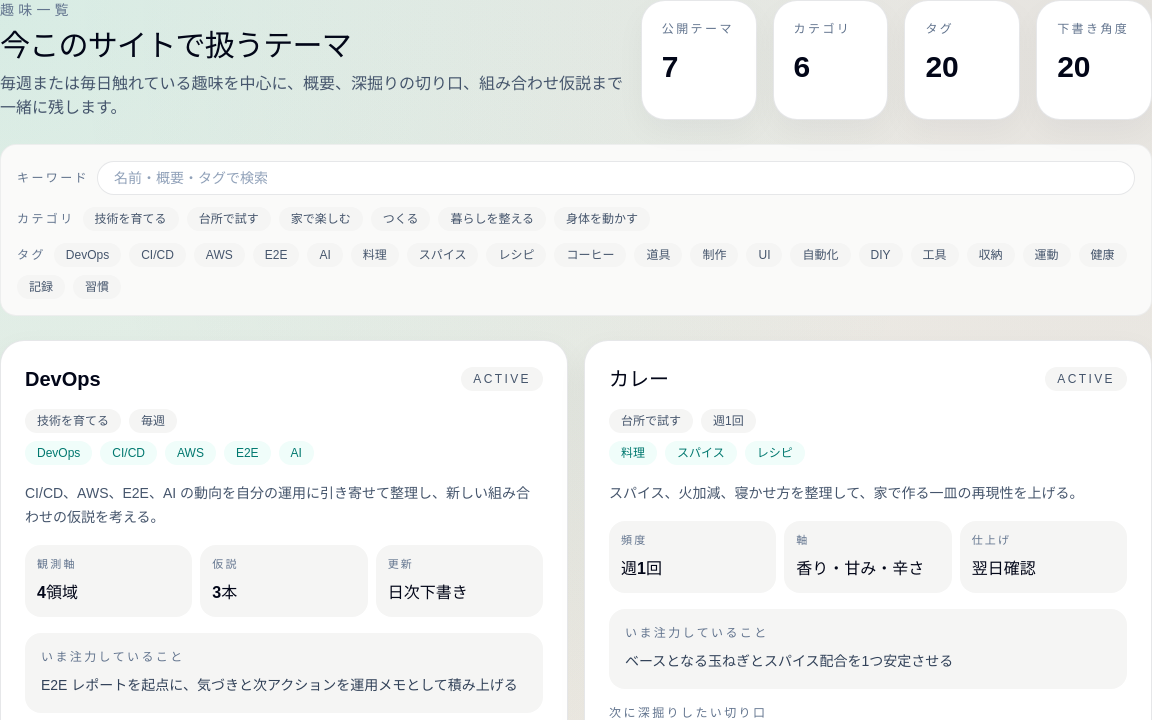
Test case: HobbiesPage › キーワード入力後に「絞り込みを解除」ボタンが表示される
Type "ランニング" into the search field labelled "キーワード" at (616, 178), box [97,161,1135,195]
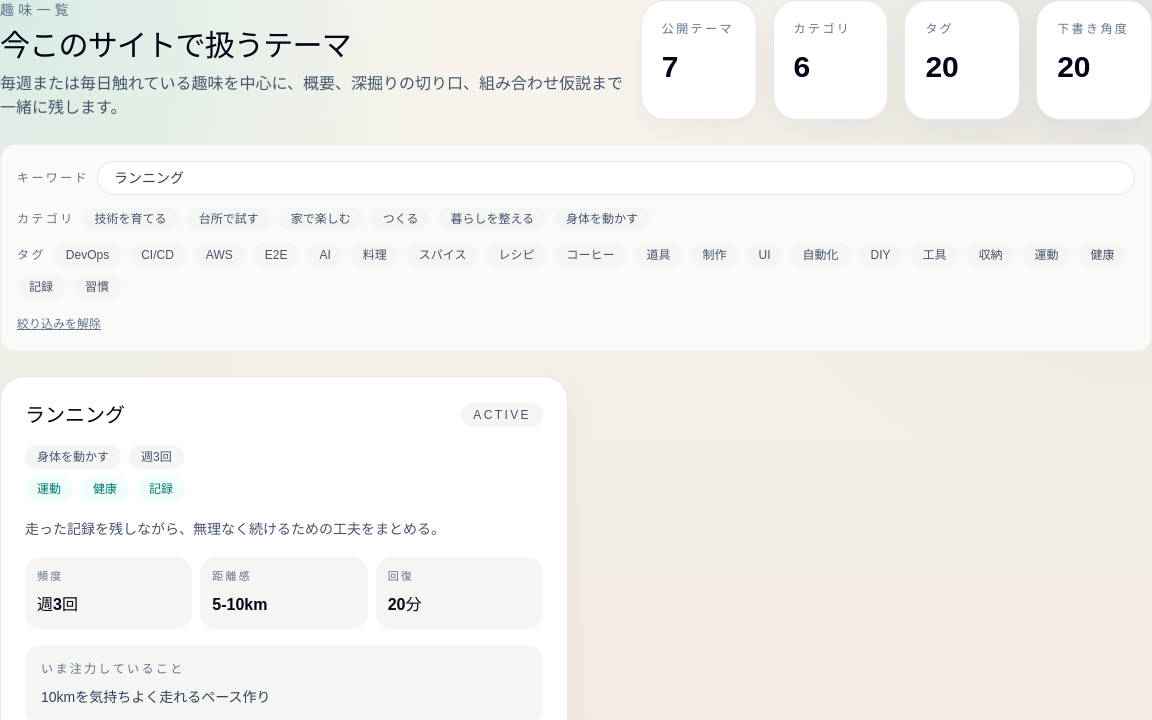
Expected: the button "絞り込みを解除" is shown, [17,316,101,332]
